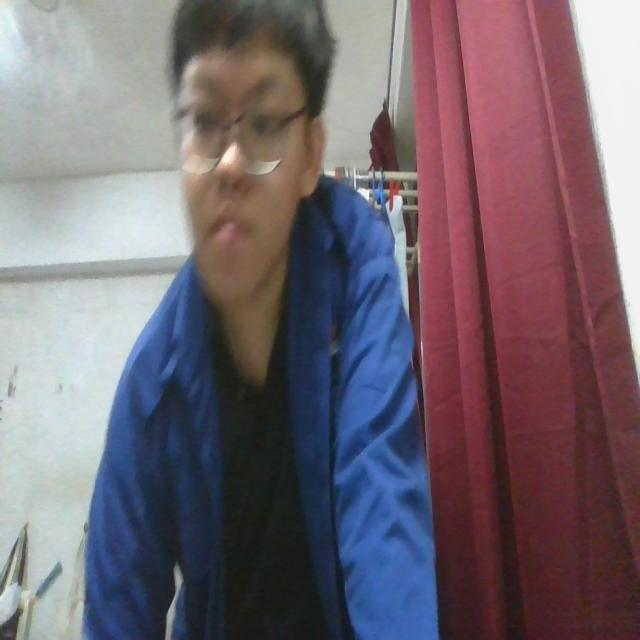person_with_labcoat: (84, 0, 437, 639)
